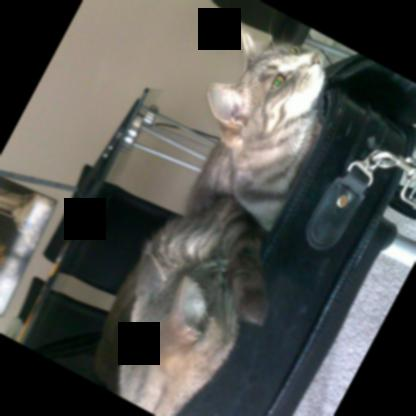suitcase: (31, 53, 416, 416)
